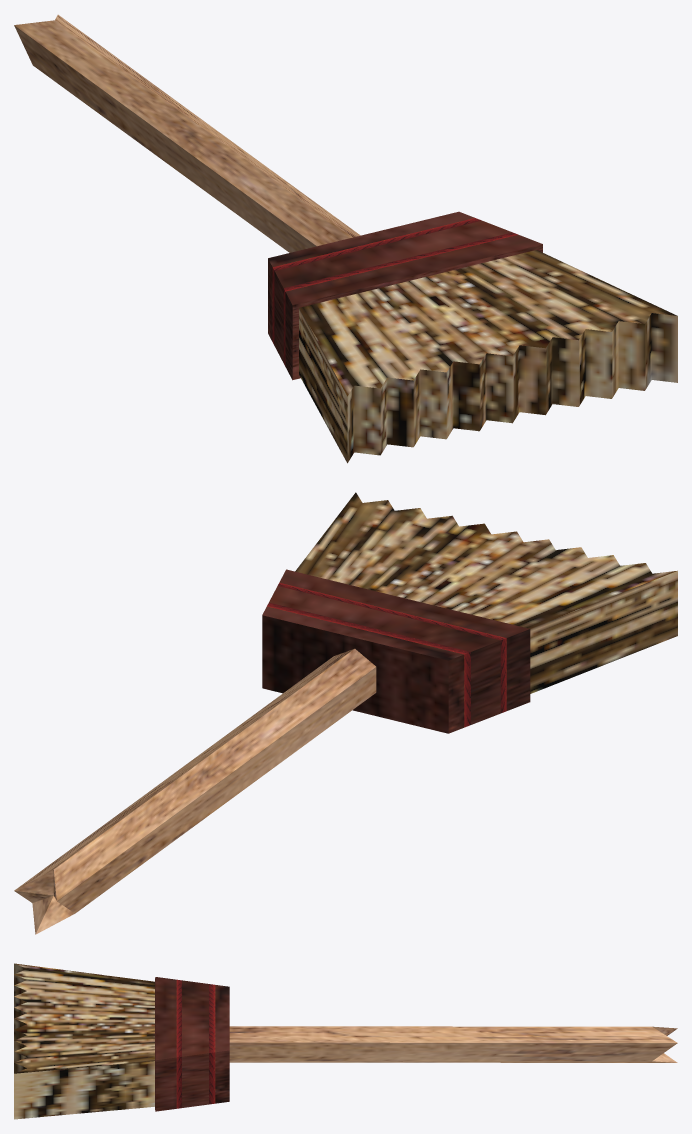
The model's file is PDH_broom_head.fbx.
3 renders of one model, top to bottom at view 1: azimuth 30°, elevation 25°; view 2: azimuth 150°, elevation 25°; view 3: azimuth 270°, elevation 25°, orthographic. The views are drawn at different scales.
Visible parts, largest first — view 1: broom_head.001, broom_stick.001; view 2: broom_head.001, broom_stick.001; view 3: broom_head.001, broom_stick.001.
Part boxes in pixels (<box>): broom_head.001: <box>268,211,677,463</box>; broom_stick.001: <box>14,14,360,252</box>; broom_head.001: <box>262,492,677,733</box>; broom_stick.001: <box>14,648,376,934</box>; broom_head.001: <box>14,963,229,1119</box>; broom_stick.001: <box>229,1026,677,1062</box>.
Bounding box in the file's own units: 357 × 909 × 77.5.
